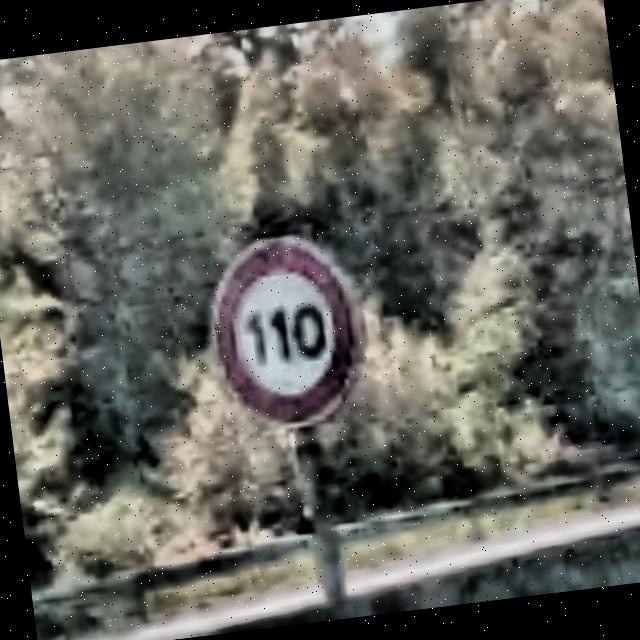speed_110: (197, 225, 373, 438)
